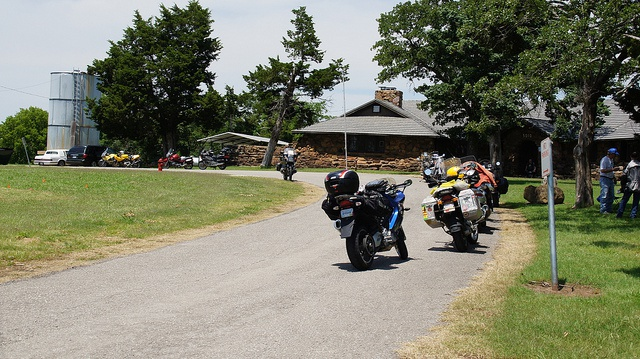non-vehicle: (321, 168, 410, 271), (421, 160, 497, 253), (275, 147, 298, 182), (162, 146, 193, 170), (198, 145, 227, 170), (98, 148, 132, 166), (426, 152, 447, 180)
